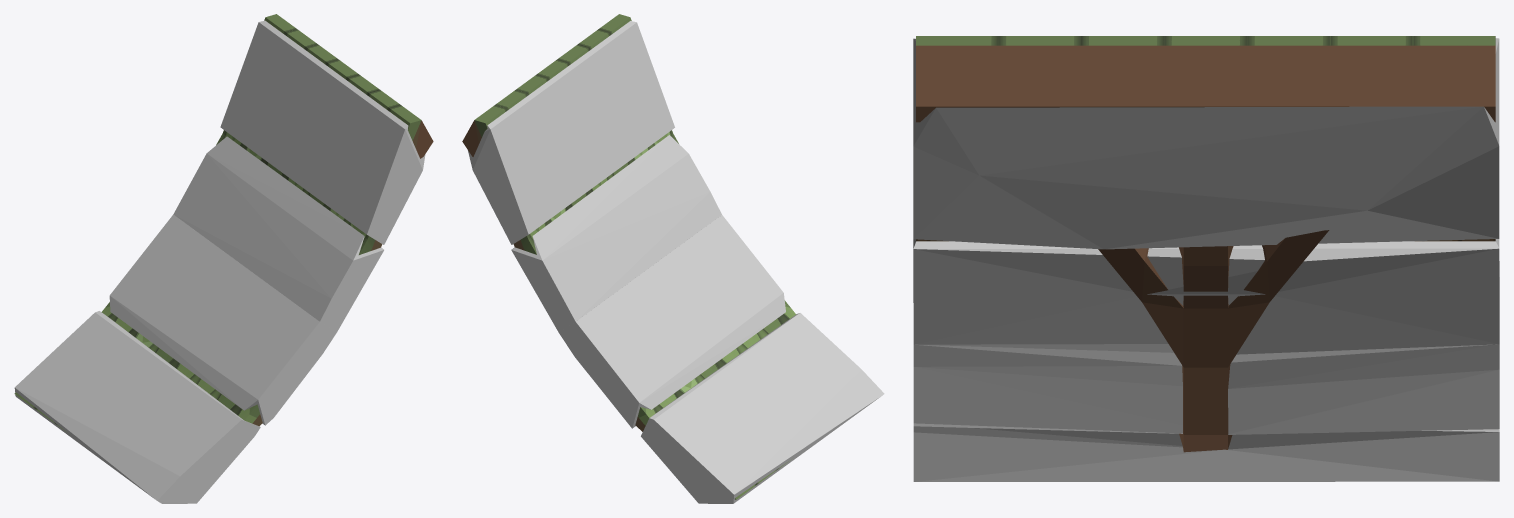
File: SM_Bld_Roof_Concave_01.fbx
The picture shows the model from 3 angles, left to right: view 1: azimuth 30°, elevation 25°; view 2: azimuth 150°, elevation 25°; view 3: azimuth 270°, elevation 25°; orthographic projection. The views are drawn at different scales.
Visible parts, largest first — view 1: SM_Bld_Roof_Concave_01_ConvexHulls, SM_Bld_Roof_Concave_01; view 2: SM_Bld_Roof_Concave_01_ConvexHulls, SM_Bld_Roof_Concave_01; view 3: SM_Bld_Roof_Concave_01_ConvexHulls, SM_Bld_Roof_Concave_01.
Boxes of the visible parts, x1=… form: SM_Bld_Roof_Concave_01_ConvexHulls: x1=14, y1=20, x2=425, y2=503; SM_Bld_Roof_Concave_01: x1=14, y1=14, x2=433, y2=433; SM_Bld_Roof_Concave_01_ConvexHulls: x1=468, y1=21, x2=884, y2=503; SM_Bld_Roof_Concave_01: x1=462, y1=14, x2=795, y2=499; SM_Bld_Roof_Concave_01_ConvexHulls: x1=913, y1=38, x2=1499, y2=481; SM_Bld_Roof_Concave_01: x1=916, y1=36, x2=1495, y2=452.
Bounding box in the file's own units: 276 × 253 × 312.
4 materials, 3 textured.
